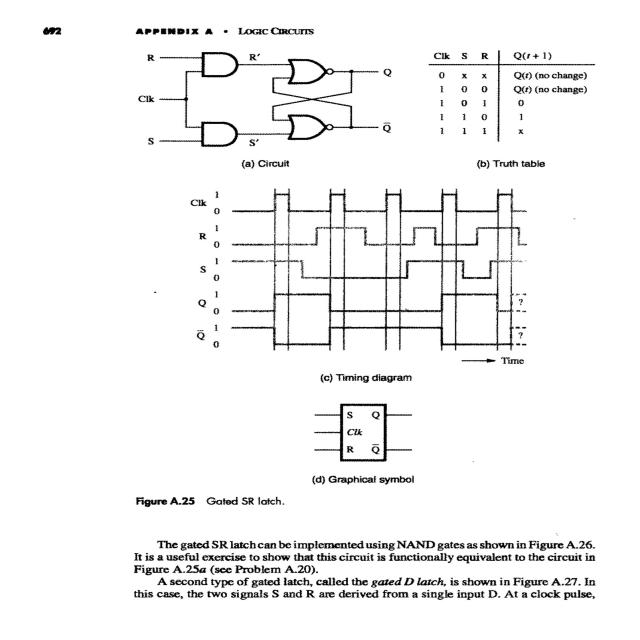diagram: (107, 49, 602, 527)
